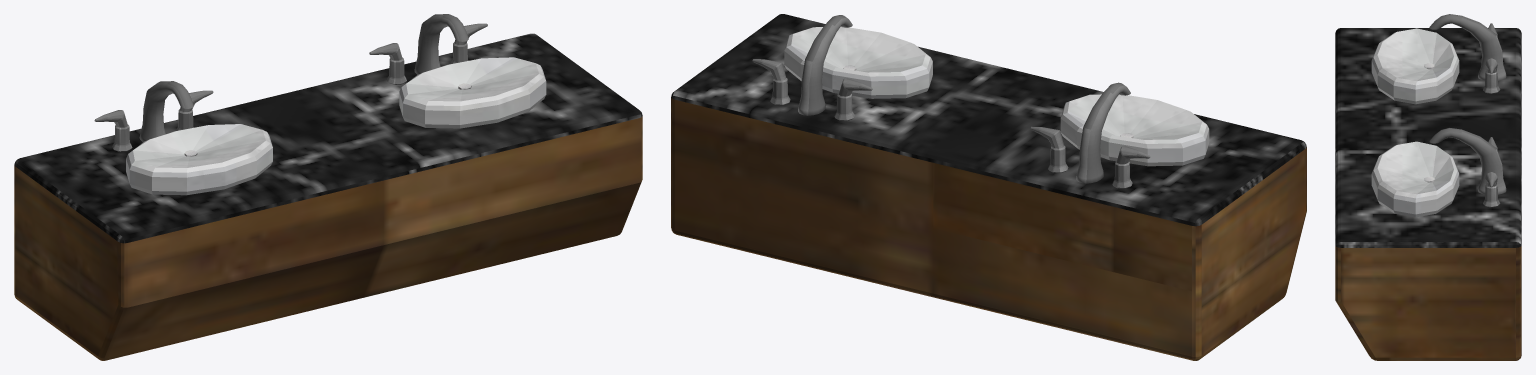
File: sinkWTextures.fbx
The picture shows the model from 3 angles, left to right: view 1: azimuth 30°, elevation 25°; view 2: azimuth 150°, elevation 25°; view 3: azimuth 270°, elevation 25°; orthographic projection. The views are drawn at different scales.
Visible parts, largest first — view 1: sink; view 2: sink; view 3: sink.
Boxes of the visible parts, x1,y1,x2,y2 form: sink: (14, 14, 642, 360); sink: (671, 14, 1306, 360); sink: (1335, 14, 1521, 360).
Size of the model in its own units: 0.8715 by 0.3435 by 0.3171.
